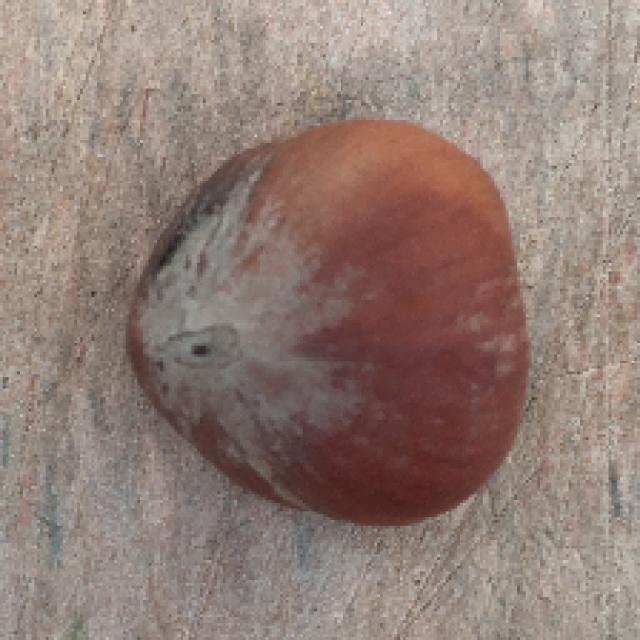damagedHazelnut: (129, 112, 538, 534)
